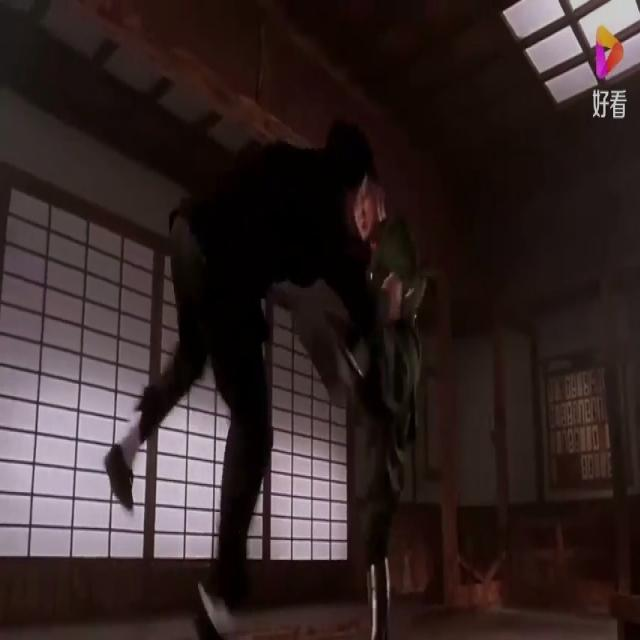fight: (98, 111, 421, 635)
